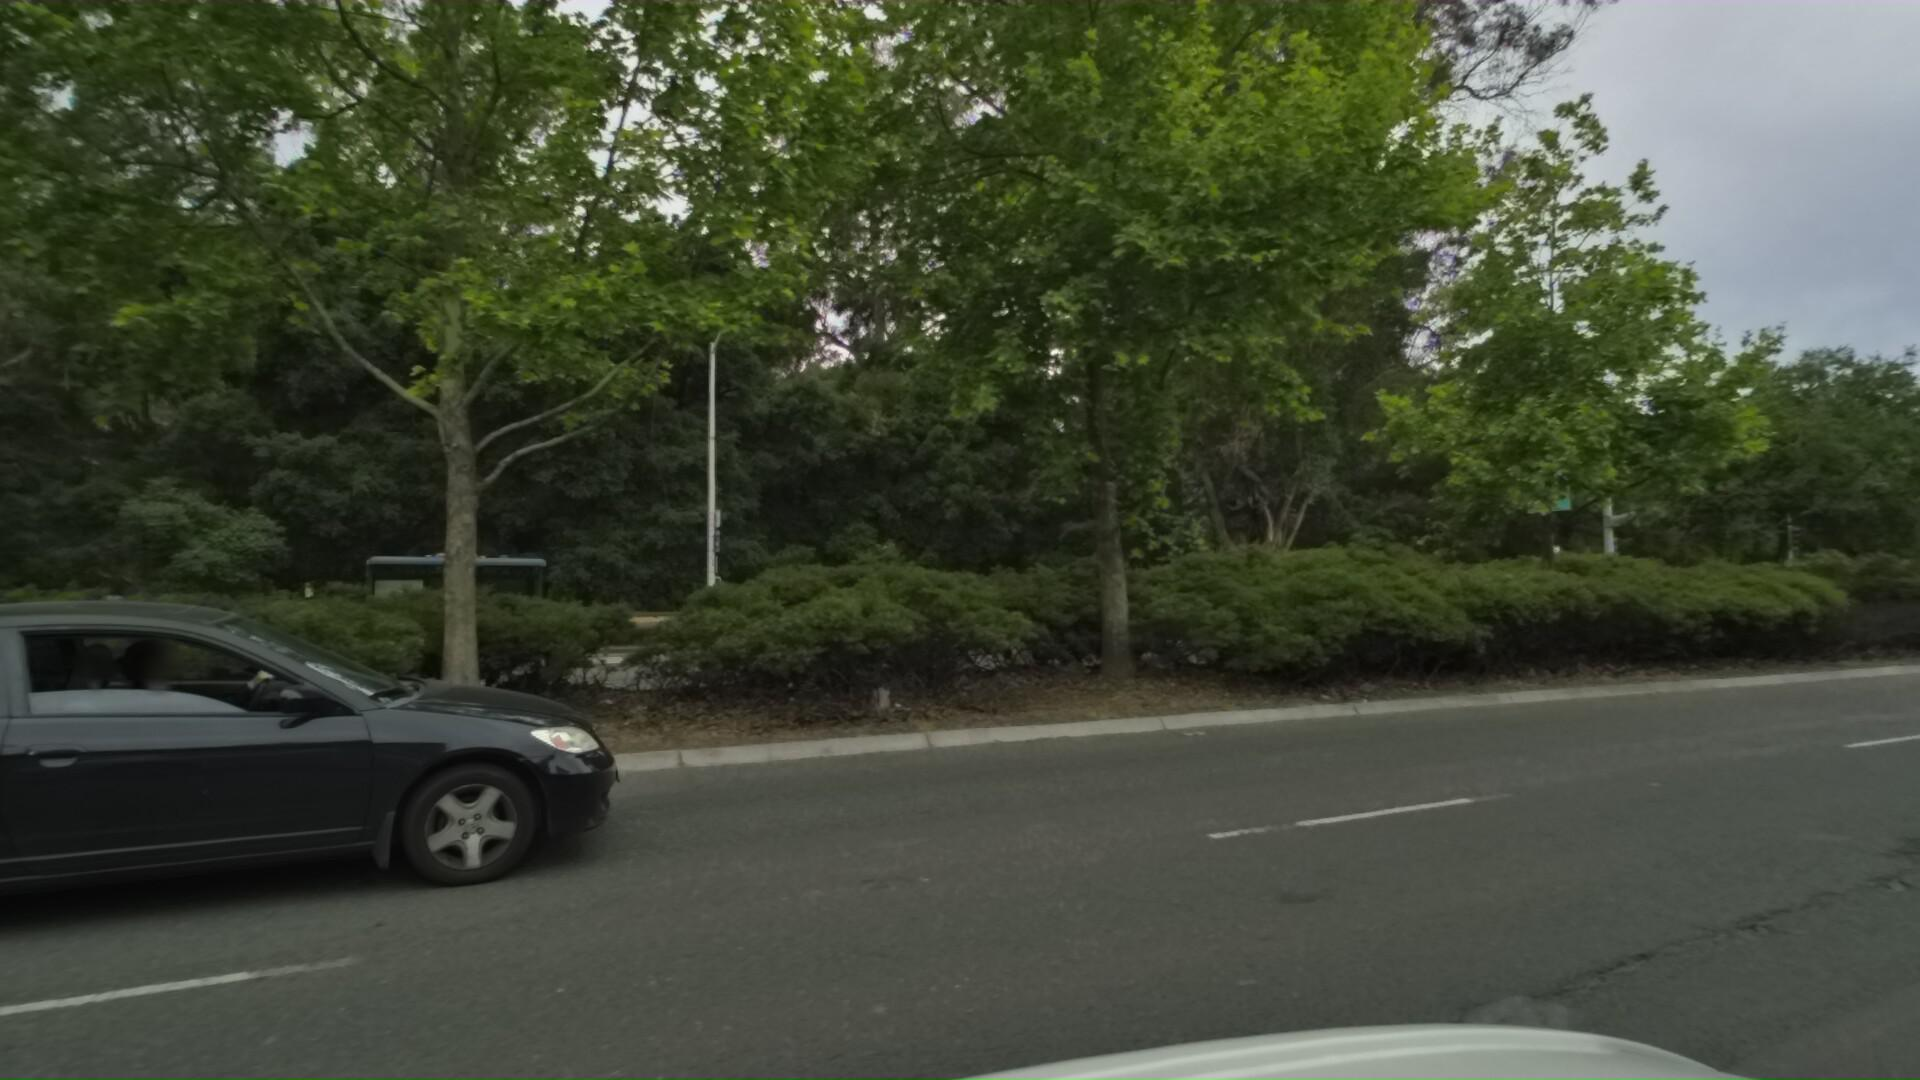car: (0, 562, 629, 1063)
